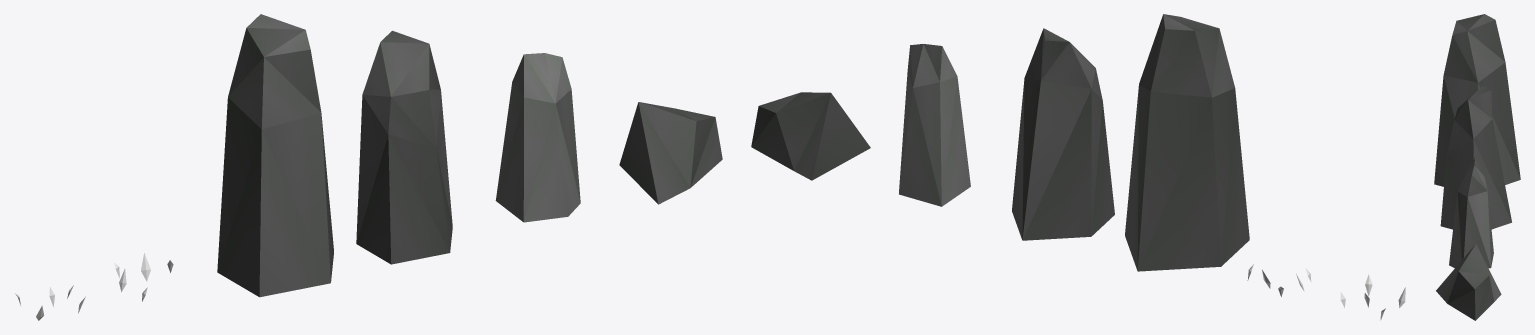
File: pilar.fbx
The picture shows the model from 3 angles, left to right: view 1: azimuth 30°, elevation 25°; view 2: azimuth 150°, elevation 25°; view 3: azimuth 270°, elevation 25°; orthographic projection. The views are drawn at different scales.
Parts seen in each view (by area): view 1: Cylinder, Cylinder.001, Cylinder.002, Cylinder.003; view 2: Cylinder, Cylinder.001, Cylinder.002, Cylinder.003; view 3: Cylinder, Cylinder.001, Cylinder.002, Cylinder.003.
Boxes of the visible parts, x1,y1,x2,y2 form: Cylinder: [217, 14, 333, 297]; Cylinder.001: [356, 30, 452, 264]; Cylinder.002: [495, 53, 580, 222]; Cylinder.003: [619, 102, 722, 204]; Cylinder: [1125, 14, 1249, 271]; Cylinder.001: [1012, 28, 1114, 240]; Cylinder.002: [899, 44, 970, 206]; Cylinder.003: [751, 92, 870, 180]; Cylinder: [1434, 14, 1520, 186]; Cylinder.001: [1440, 85, 1511, 229]; Cylinder.002: [1449, 157, 1493, 268]; Cylinder.003: [1436, 244, 1501, 320].
Size of the model in its own units: 1189 by 405 by 199.
